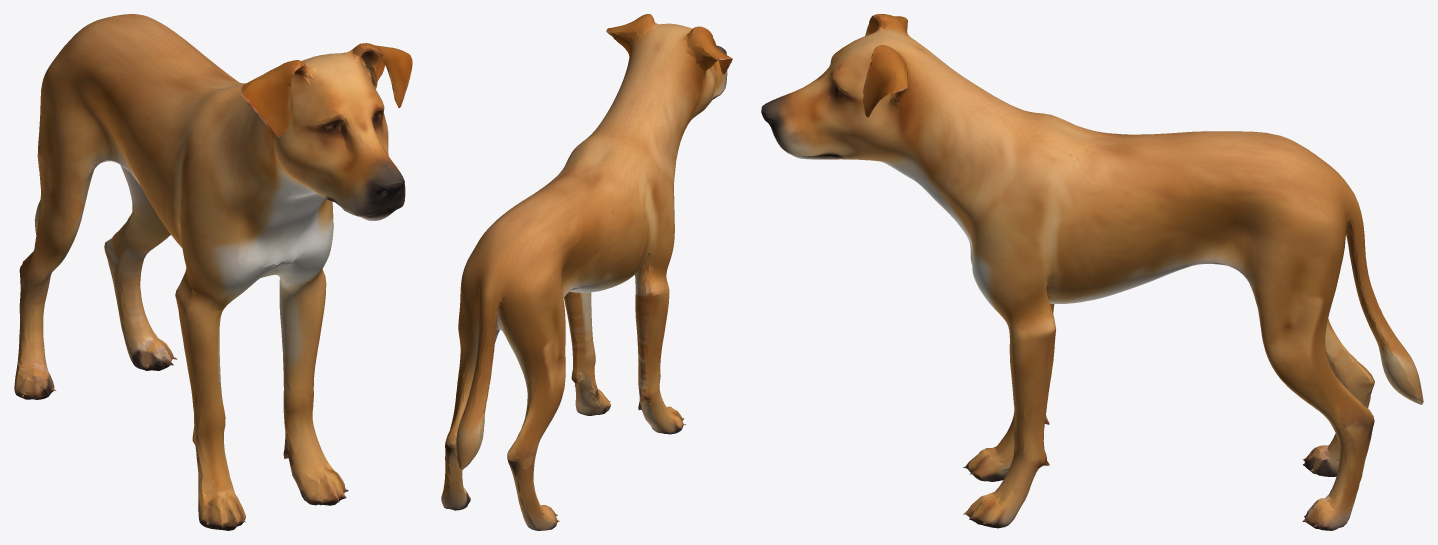
The model's file is stray_dog_standing.glb.
3 renders of one model, left to right at view 1: azimuth 30°, elevation 25°; view 2: azimuth 150°, elevation 25°; view 3: azimuth 270°, elevation 25°, orthographic. The views are drawn at different scales.
Visible parts, largest first — view 1: model; view 2: model; view 3: model.
Boxes of the visible parts, <box> form: model: <box>14,14,412,530</box>; model: <box>441,14,732,530</box>; model: <box>761,14,1423,530</box>.
Size of the model in its own units: 0.5196 by 1.48 by 1.9.
1 material, 1 textured.
